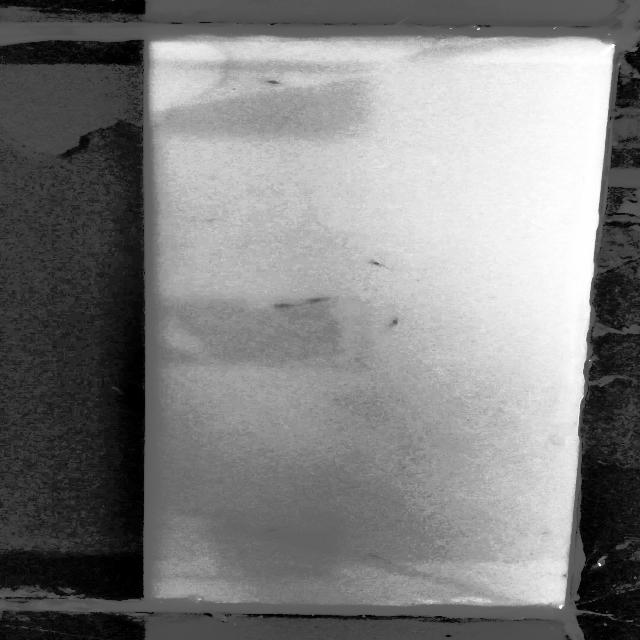shrimp: (364, 257, 392, 271), (298, 295, 337, 305), (269, 300, 303, 311), (366, 552, 395, 562), (384, 316, 406, 329), (262, 525, 295, 533), (265, 78, 290, 88)
